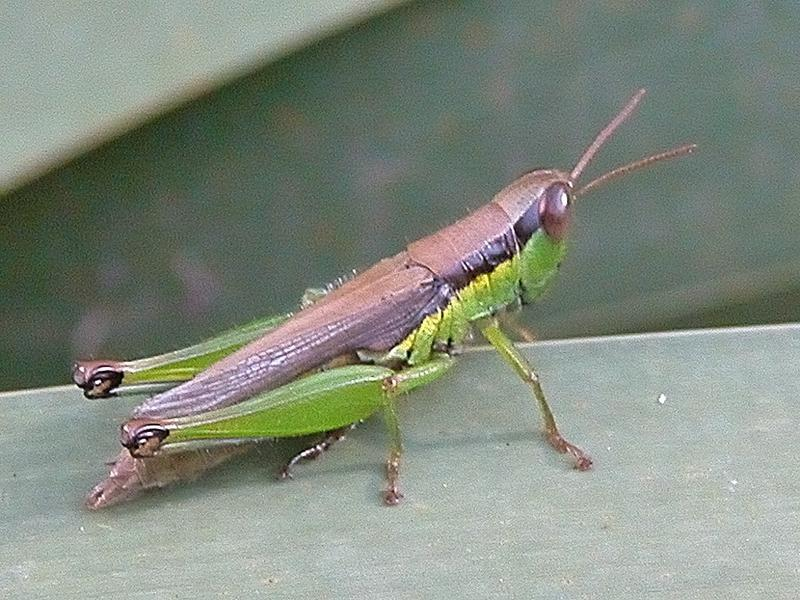Grasshopper: (57, 144, 609, 516)
